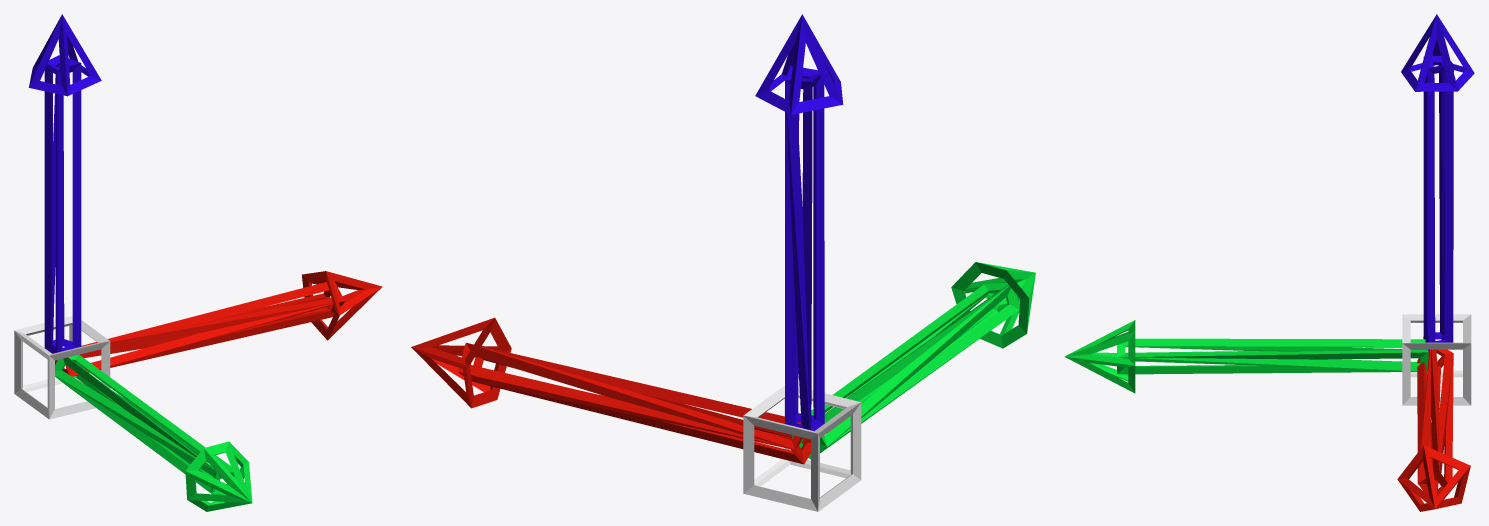
Rendered from gizmo.fbx.
The picture shows the model from 3 angles, left to right: view 1: azimuth 30°, elevation 25°; view 2: azimuth 150°, elevation 25°; view 3: azimuth 270°, elevation 25°; orthographic projection. The views are drawn at different scales.
Parts seen in each view (by area): view 1: polySurface3, polySurface1, polySurface5, polySurface7, polySurface6, polySurface4, polySurface2; view 2: polySurface3, polySurface1, polySurface5, polySurface7, polySurface4, polySurface2, polySurface6; view 3: polySurface5, polySurface3, polySurface1, polySurface7, polySurface4, polySurface2, polySurface6.
Boxes of the visible parts, x1,y1,x2,y2 form: polySurface3: (44,55,81,353); polySurface1: (55,281,344,376); polySurface5: (55,355,235,495); polySurface7: (14,316,110,419); polySurface6: (185,441,252,511); polySurface4: (29,14,101,96); polySurface2: (302,271,382,340); polySurface3: (785,65,824,433); polySurface1: (457,342,810,464); polySurface5: (792,282,1019,459); polySurface7: (743,385,861,511); polySurface4: (755,14,843,114); polySurface2: (411,317,511,408); polySurface6: (951,262,1035,348); polySurface5: (1117,338,1428,374); polySurface3: (1423,56,1453,350); polySurface1: (1417,349,1453,495); polySurface7: (1402,314,1471,405); polySurface4: (1401,14,1474,91); polySurface2: (1397,445,1470,511); polySurface6: (1064,320,1135,393).
Size of the model in its own units: 372 by 388 by 382.
